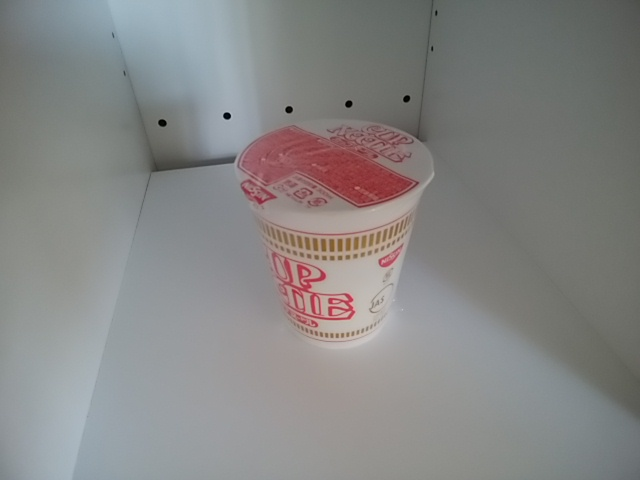cup-ramen: (232, 114, 444, 354)
